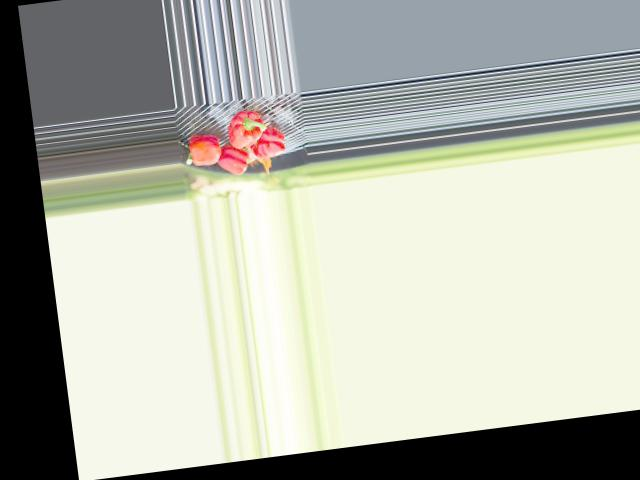bell_pepper: (248, 126, 288, 161)
